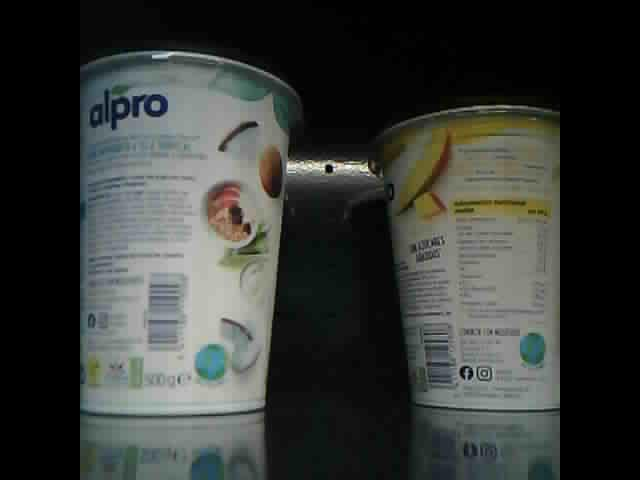alpro: (81, 41, 305, 420), (373, 102, 560, 412)
